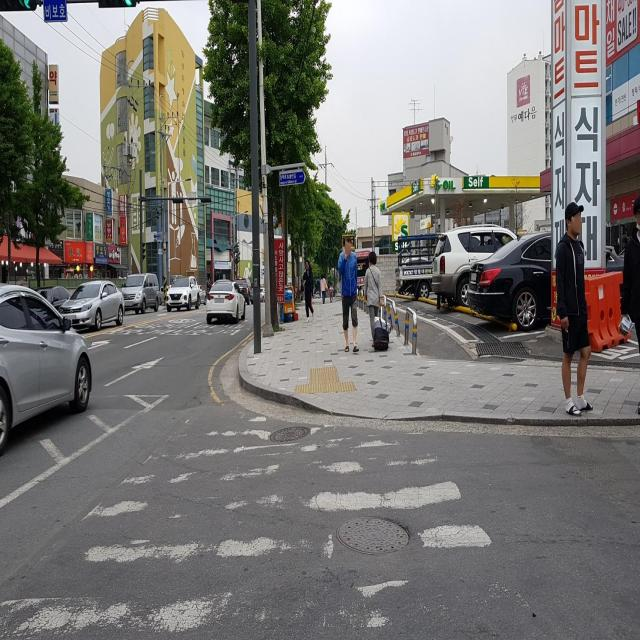횡단보도: (0, 411, 531, 639)
